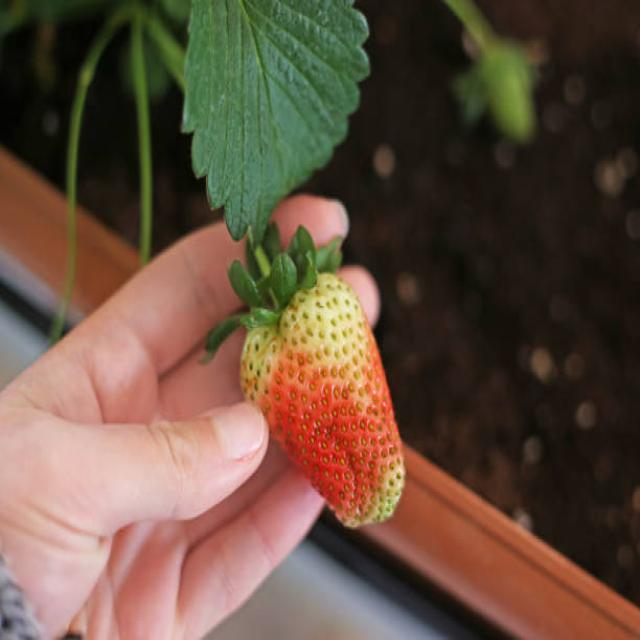Healthy Fruit: (239, 275, 407, 532)
